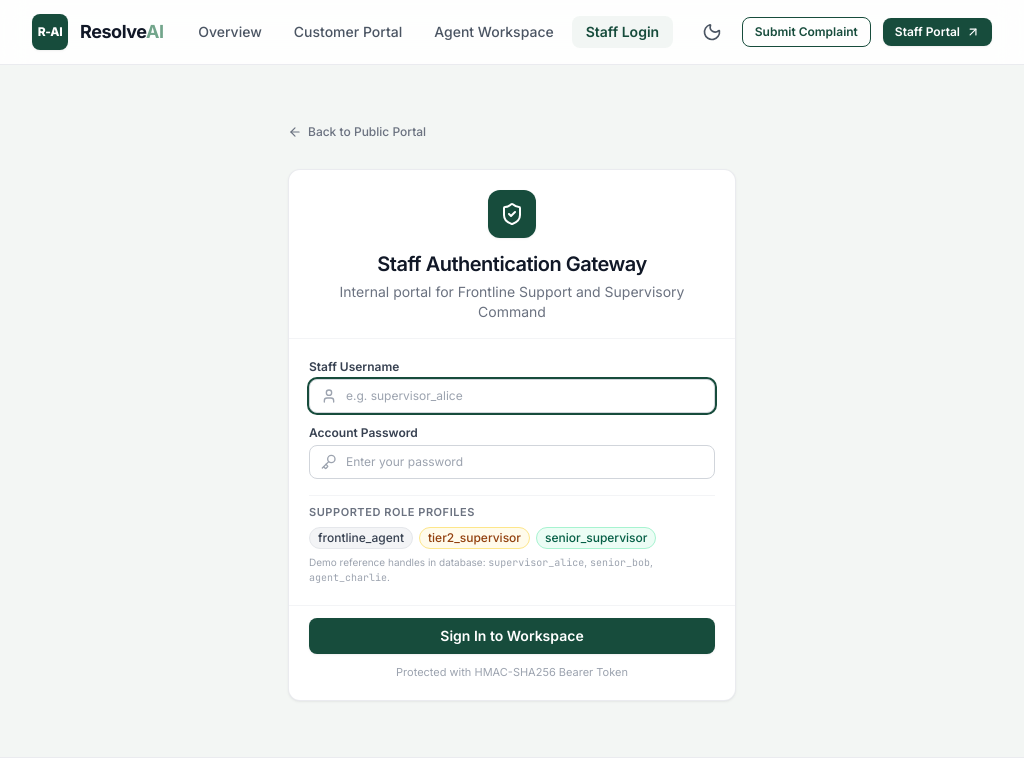
Scenario: Staff Authentication & Session Handling › validates empty inputs before submitting
Click the button "Sign In to Workspace": (512, 636) [309,618,715,654]
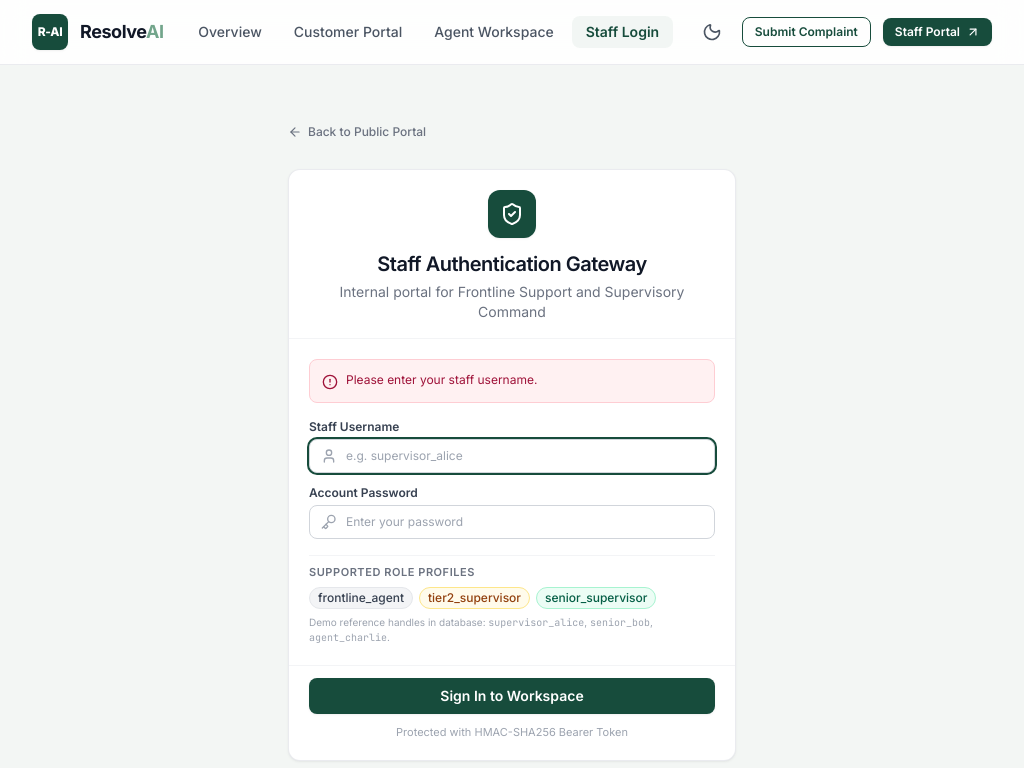
Expected: the message shows "Please enter your staff username", [346,372,537,387]
